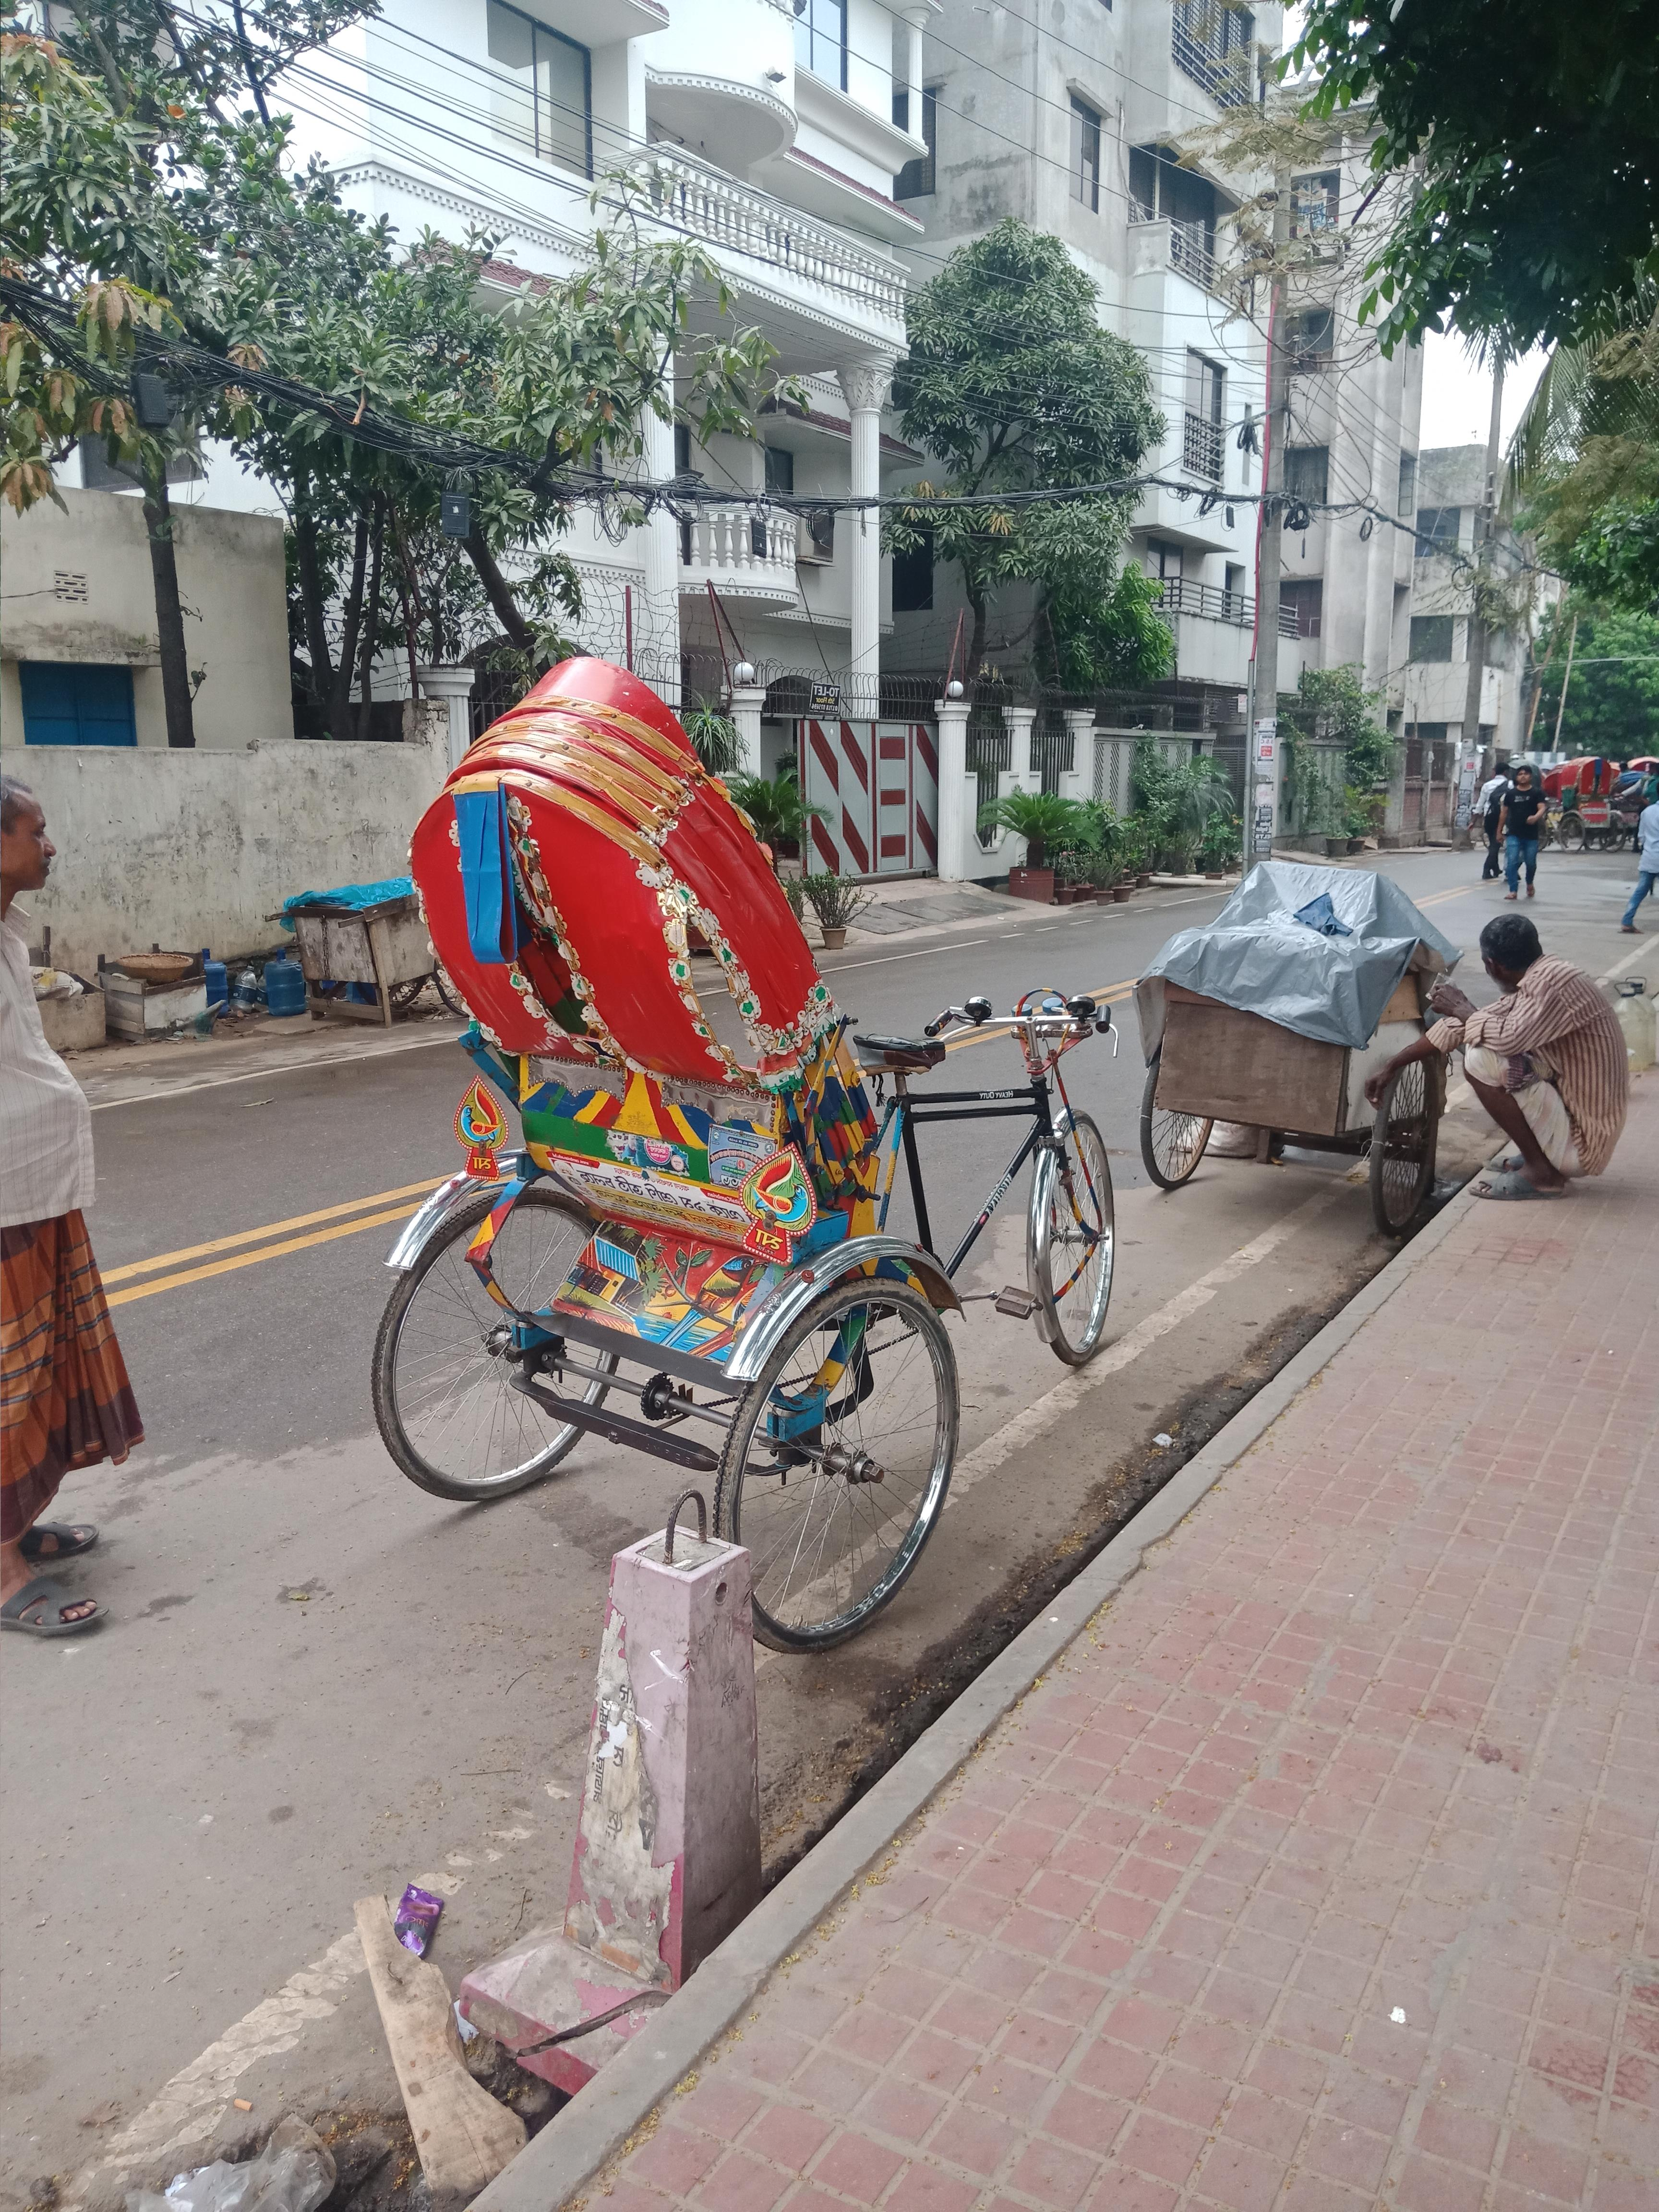Rickshaw: (328, 646, 1209, 1698)
